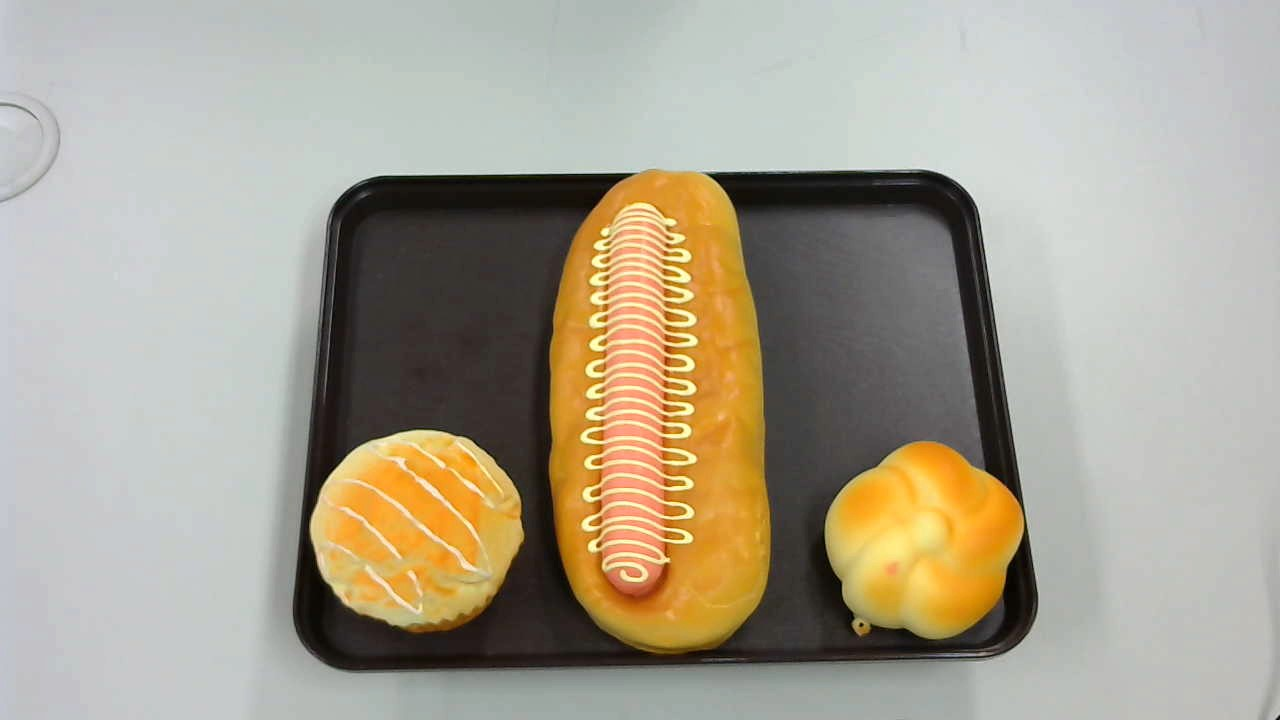croissant: (822, 441, 1025, 637)
cupcake: (311, 428, 524, 634)
hot dog: (548, 169, 772, 657)
